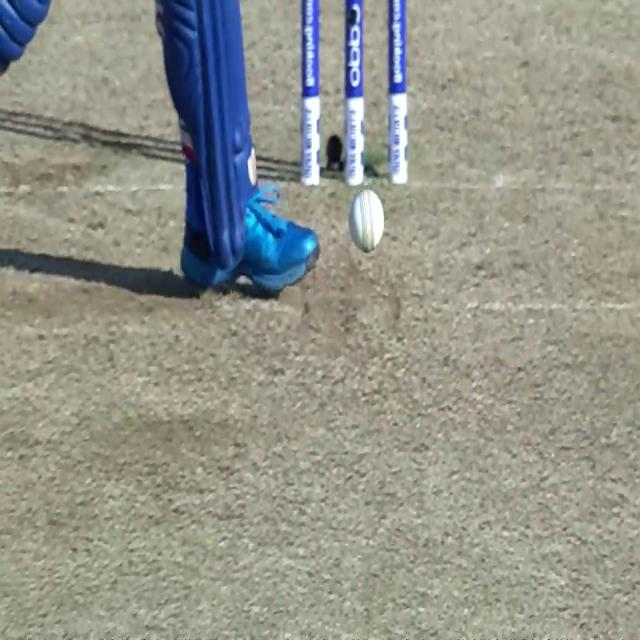ball: (347, 188, 383, 255)
